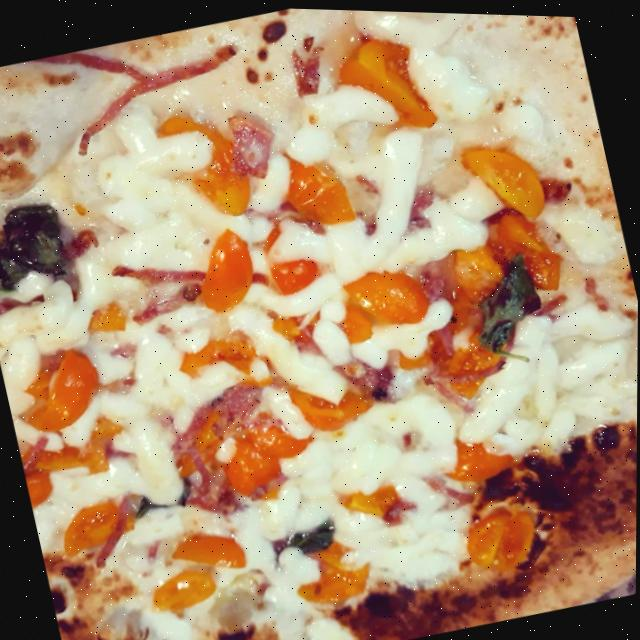basil: (458, 242, 560, 376), (0, 194, 77, 308)
pizza: (0, 0, 640, 640)
tomatoes: (244, 288, 378, 453), (323, 13, 451, 150), (147, 96, 258, 236), (14, 403, 143, 515), (390, 290, 511, 403), (452, 125, 556, 233), (277, 129, 372, 247), (7, 335, 109, 444), (329, 254, 443, 346), (50, 485, 158, 579), (166, 314, 275, 404), (487, 196, 570, 302), (252, 206, 332, 309), (209, 421, 297, 513), (287, 527, 382, 612), (416, 228, 516, 308), (184, 217, 263, 318), (456, 494, 550, 578), (431, 413, 522, 497), (160, 513, 255, 589), (333, 465, 425, 540), (161, 401, 237, 481), (145, 555, 225, 631), (239, 399, 321, 472), (81, 289, 132, 342)
